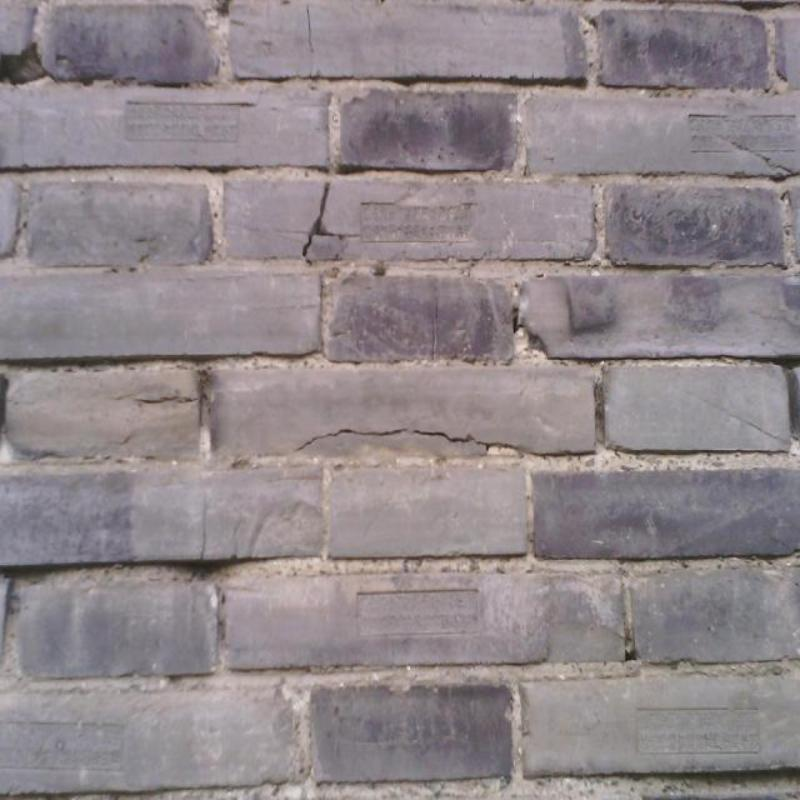pothole: (303, 182, 360, 257), (413, 429, 525, 453), (296, 428, 409, 451), (1, 41, 49, 84), (135, 395, 198, 404), (200, 496, 206, 559), (306, 5, 314, 52), (624, 651, 635, 661), (309, 58, 313, 78)
